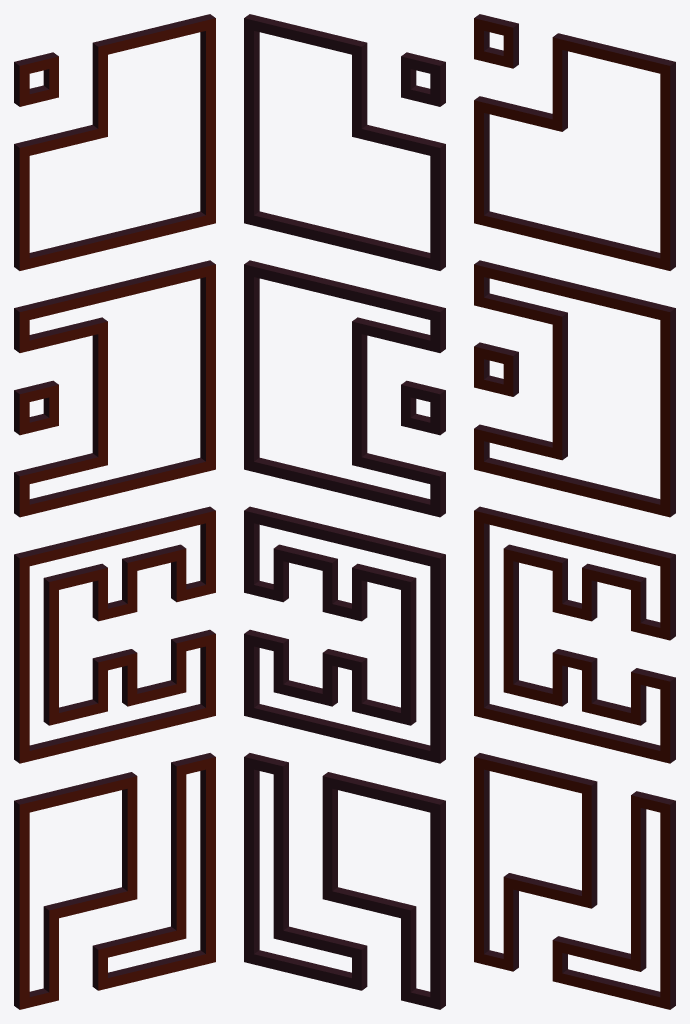
File: neon_workao.fezao.glb
3 views of the same model, side by side, from view 1: azimuth 30°, elevation 25°; view 2: azimuth 150°, elevation 25°; view 3: azimuth 330°, elevation 25° (orthographic).
Parts seen in each view (by area): view 1: NEON_WORKAO; view 2: NEON_WORKAO; view 3: NEON_WORKAO.
Part boxes in pixels (bbox=[...]): NEON_WORKAO: bbox=[14, 14, 215, 1009]; NEON_WORKAO: bbox=[244, 14, 445, 1009]; NEON_WORKAO: bbox=[474, 14, 675, 1009].
Bounding box in the file's own units: 1.25 × 5.75 × 0.0625.
Materials: 1 (1 with a texture image).
